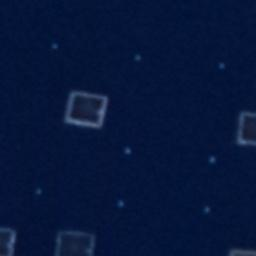square_cover: (66, 86, 113, 136), (51, 226, 99, 256), (229, 106, 256, 145), (1, 217, 22, 256)
